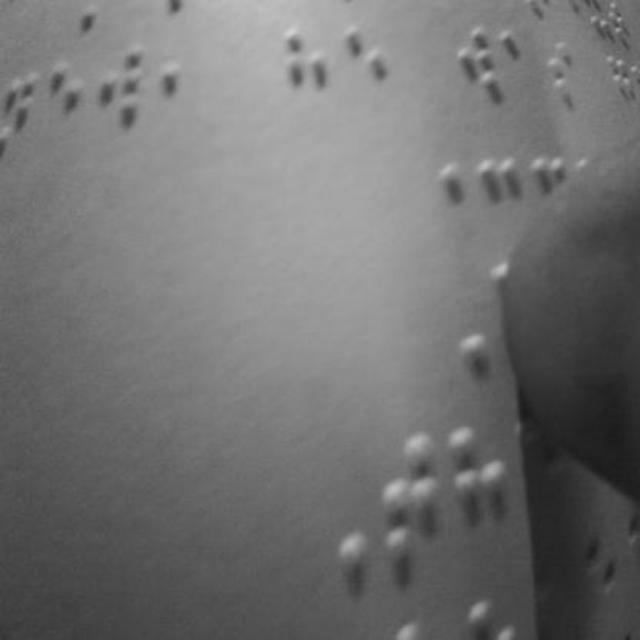braiile: (382, 421, 448, 571), (451, 413, 512, 562), (42, 48, 94, 168), (154, 30, 210, 138), (340, 14, 392, 120), (449, 13, 501, 108), (282, 27, 330, 127), (98, 39, 146, 137)
